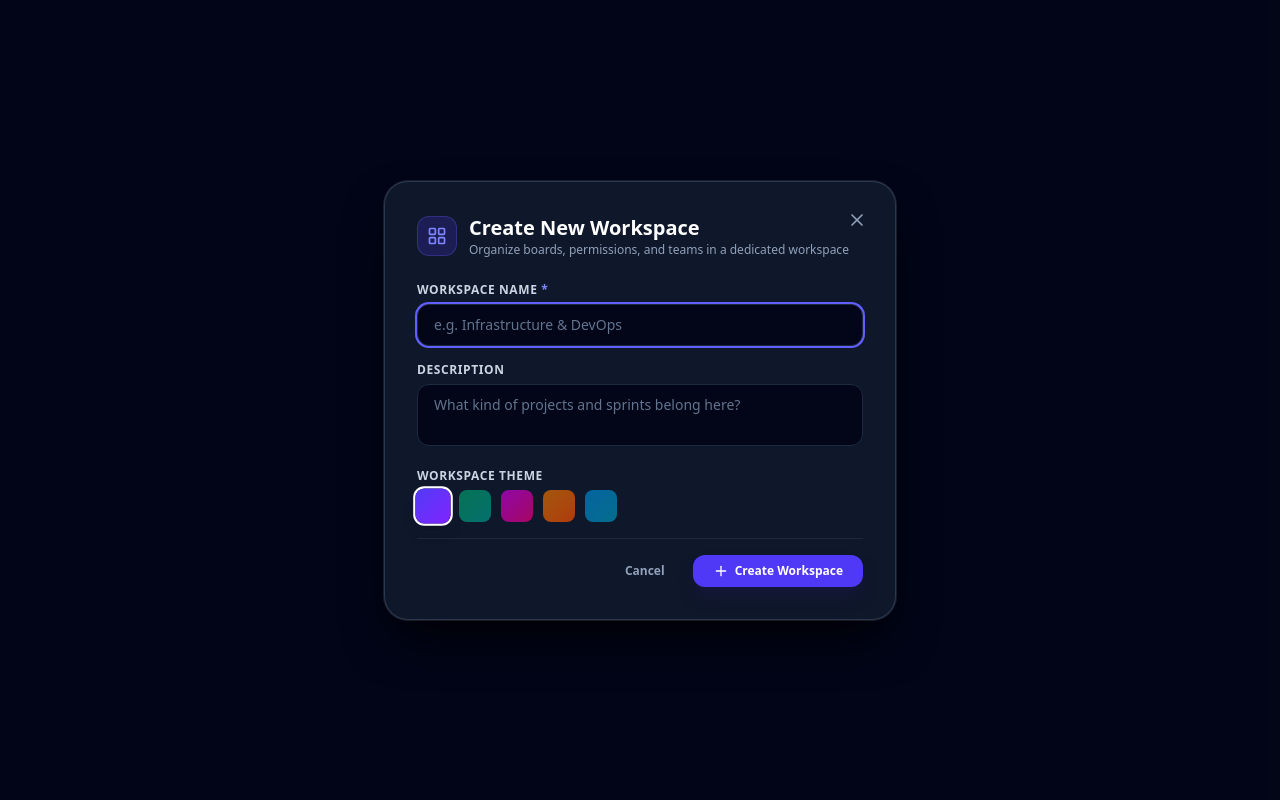
Scenario: workspace components › CreateWorkspaceModal › displays error message when creation fails
Type "Duplicate Team" into the field with placeholder "e.g. Infrastructure & DevOps" at (640, 324), box [417, 304, 863, 346]
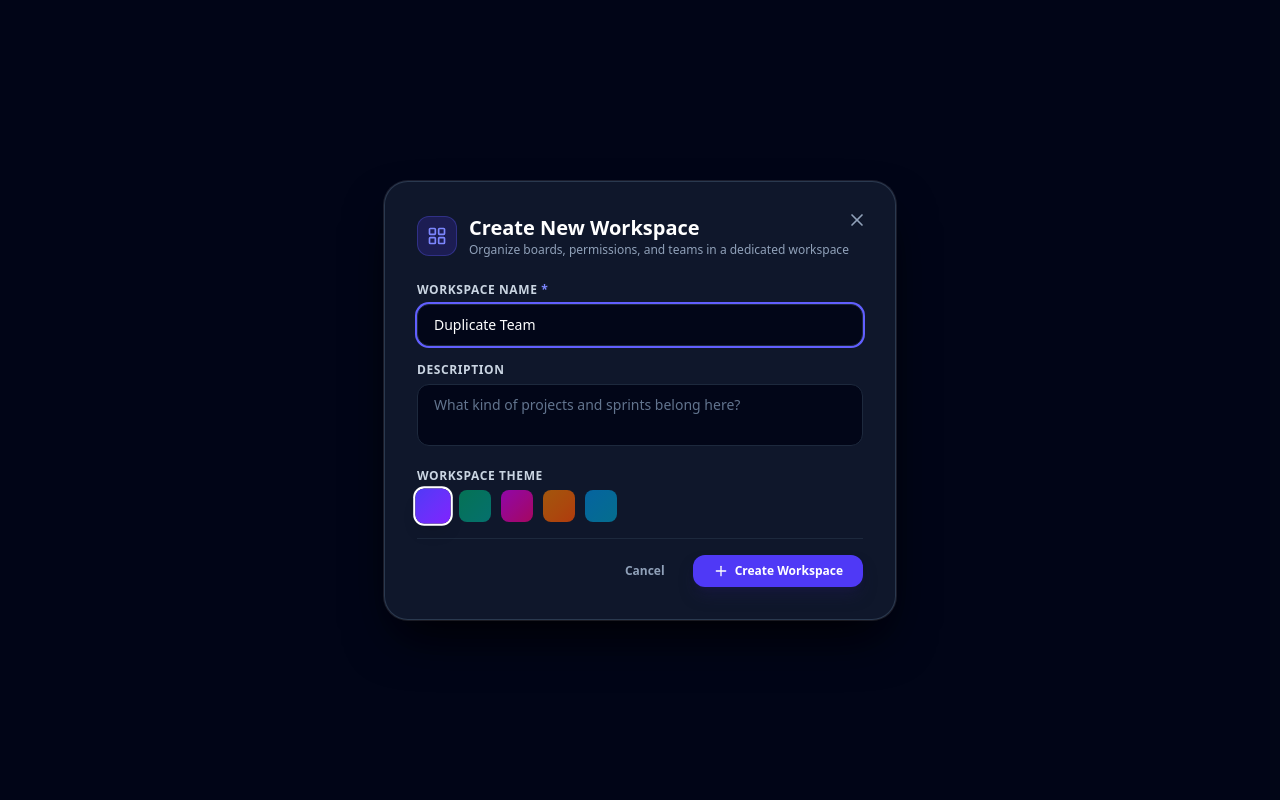
Click the button "Create Workspace" at (778, 570), box [693, 554, 863, 586]
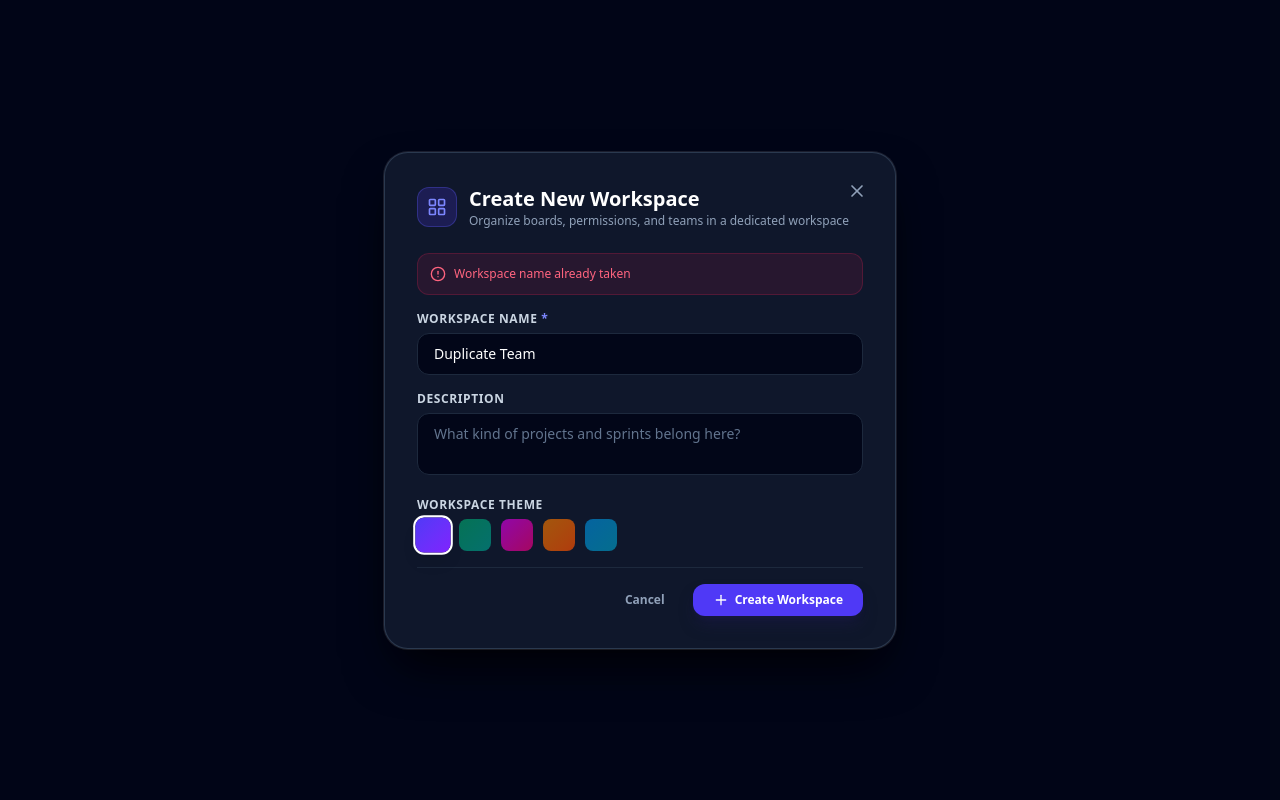
Check: the text "Workspace name already taken" is shown, box [454, 266, 631, 282]
